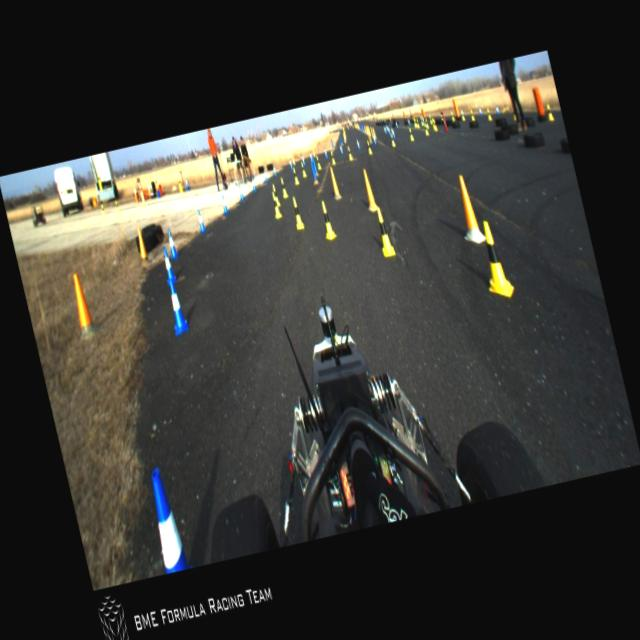blue_cone: (139, 464, 191, 574), (162, 277, 191, 336), (159, 245, 178, 285), (164, 228, 179, 260), (194, 208, 207, 234), (220, 193, 230, 216), (236, 182, 245, 201), (250, 174, 256, 192), (183, 176, 190, 190), (262, 166, 268, 182), (300, 153, 306, 166), (308, 150, 314, 163), (322, 145, 328, 158), (355, 138, 361, 150), (288, 156, 293, 169), (338, 142, 343, 154), (494, 104, 500, 114), (272, 163, 276, 176), (372, 134, 377, 144), (478, 106, 482, 115), (394, 120, 398, 128), (383, 124, 386, 133), (391, 126, 394, 134), (392, 130, 395, 137), (387, 126, 390, 132), (406, 118, 409, 124), (386, 123, 388, 131)
orange_cone: (132, 185, 139, 202)
unknown_cone: (450, 172, 486, 246), (65, 270, 99, 339), (359, 166, 379, 212), (133, 226, 151, 264), (326, 165, 342, 200), (308, 160, 319, 185), (310, 156, 318, 176), (420, 106, 426, 120), (369, 124, 374, 135), (367, 132, 372, 142), (372, 126, 376, 137), (408, 108, 412, 119), (339, 135, 343, 145), (330, 138, 334, 148), (291, 154, 295, 164), (402, 110, 406, 120), (365, 124, 369, 134), (367, 125, 371, 134), (343, 131, 346, 140), (361, 122, 364, 131), (360, 122, 363, 130), (343, 128, 346, 136), (376, 115, 379, 122), (385, 114, 388, 120), (346, 124, 349, 130), (371, 116, 374, 122), (392, 112, 394, 120), (364, 124, 366, 132), (374, 115, 376, 122), (359, 124, 361, 130), (389, 115, 391, 121), (384, 116, 386, 122), (357, 123, 359, 129), (356, 123, 358, 129), (342, 126, 344, 132), (370, 116, 372, 122), (368, 115, 370, 121), (348, 122, 351, 126), (354, 122, 356, 128), (368, 116, 371, 120), (381, 117, 383, 122), (352, 125, 354, 129), (344, 124, 344, 128)
yellow_cone: (474, 216, 516, 302), (372, 206, 396, 258), (316, 198, 338, 242), (289, 195, 304, 230), (270, 192, 282, 220), (270, 182, 280, 207), (279, 176, 289, 198), (290, 167, 300, 186), (545, 102, 554, 120), (328, 148, 336, 164), (388, 131, 396, 147), (314, 153, 321, 169), (365, 139, 372, 154), (300, 161, 306, 177), (346, 145, 352, 160), (486, 106, 492, 121), (408, 127, 414, 141), (422, 122, 428, 135), (432, 118, 438, 131), (468, 108, 474, 120), (460, 109, 466, 120), (114, 199, 119, 212), (100, 202, 105, 215), (178, 179, 182, 192), (154, 178, 159, 188), (311, 144, 315, 156), (512, 108, 516, 120), (450, 111, 454, 121), (415, 118, 419, 128), (412, 118, 417, 126), (424, 117, 428, 127), (439, 112, 444, 120), (428, 114, 432, 123), (342, 133, 346, 142), (97, 174, 101, 183), (420, 115, 423, 124)
